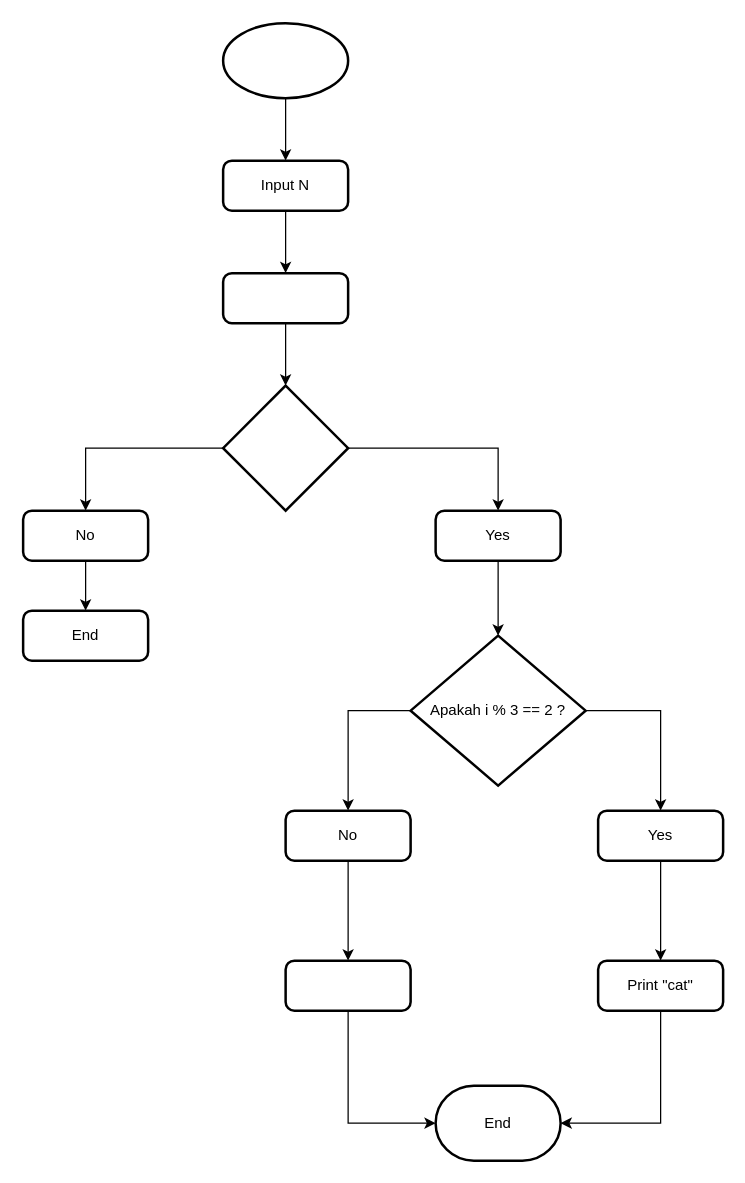
Some shapes in this 745 by 1183 pixel diagram are drawn without their labels. The centre of each missing label's shape, as x and y in pixels:
Apakah i < N?: [285,447]
i = 0: [285,297]
Print "dog": [347,985]
Start: [285,60]
